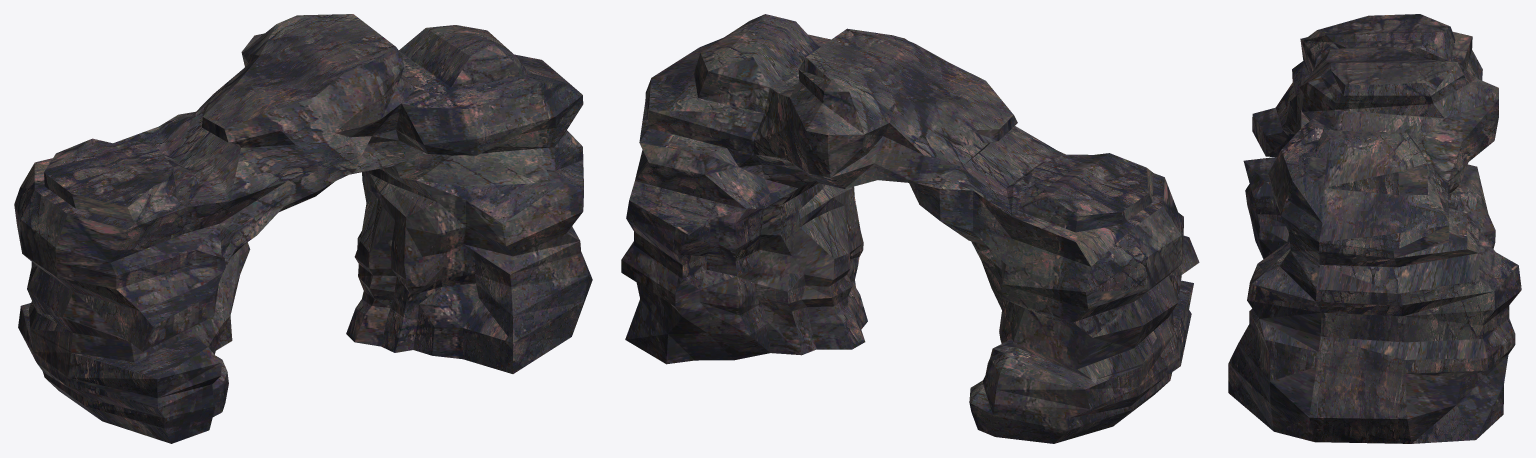
File: Opticals_1.FBX
The picture shows the model from 3 angles, left to right: view 1: azimuth 30°, elevation 25°; view 2: azimuth 150°, elevation 25°; view 3: azimuth 270°, elevation 25°; orthographic projection. The views are drawn at different scales.
Visible parts, largest first — view 1: cadnav; view 2: cadnav; view 3: cadnav.
Boxes of the visible parts, left/top/right/bottom form: cadnav: left=14, top=14, right=592, bottom=443; cadnav: left=621, top=14, right=1199, bottom=443; cadnav: left=1228, top=14, right=1521, bottom=443.
Bounding box in the file's own units: 140 × 77.31 × 71.91.
